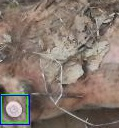text: (1, 94, 27, 122)
